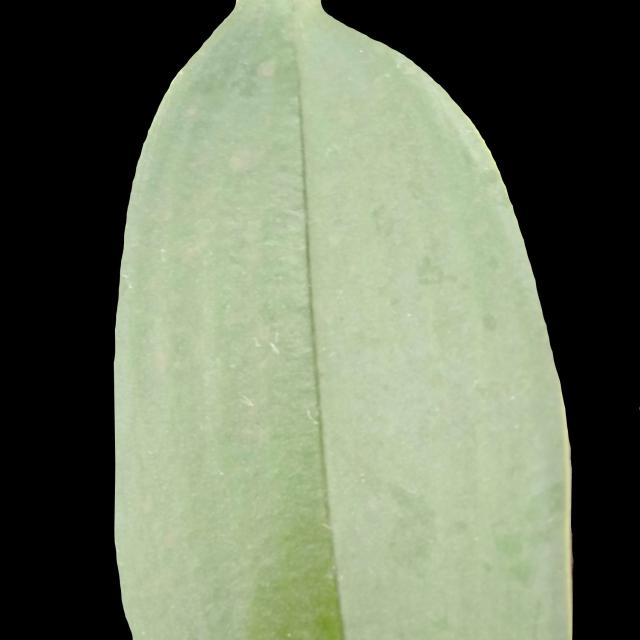mite: (243, 519, 343, 638), (410, 248, 503, 335), (492, 529, 536, 587), (227, 54, 281, 101), (411, 251, 460, 292), (415, 254, 444, 287), (228, 75, 258, 100), (507, 558, 533, 586), (274, 623, 294, 638), (485, 254, 500, 271)
spots: (112, 2, 574, 637)
